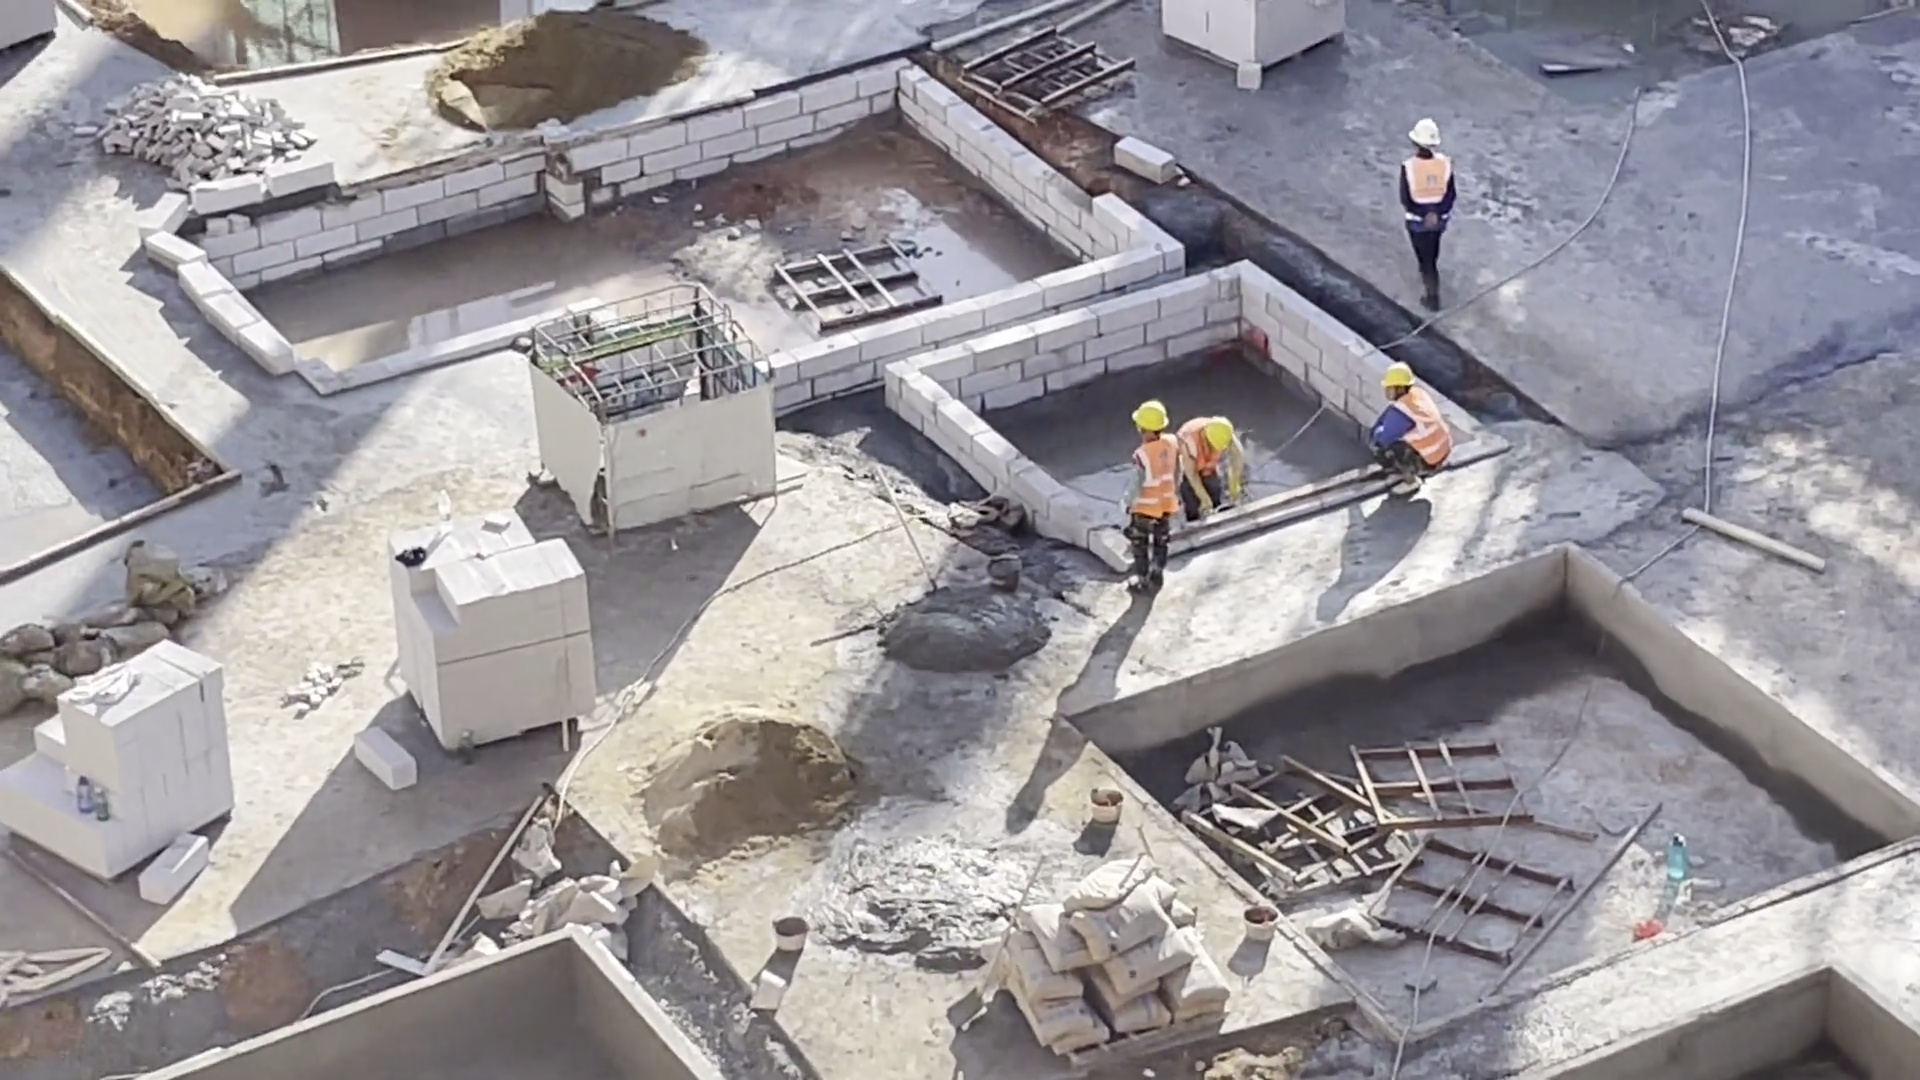brick: (1, 613, 236, 891), (392, 511, 610, 752)
helmet: (1409, 108, 1455, 160), (1198, 418, 1237, 455), (1133, 398, 1172, 430), (1383, 360, 1418, 393)
person: (1386, 108, 1463, 320), (1359, 360, 1459, 498), (1173, 411, 1262, 517), (1126, 394, 1171, 563)
vest: (1382, 393, 1453, 474), (1122, 433, 1176, 502), (1404, 155, 1450, 215), (1176, 423, 1219, 487)
